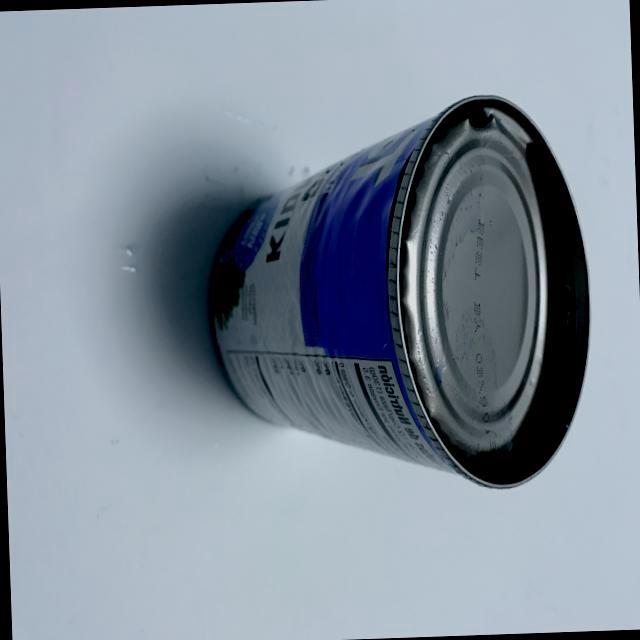metal: (184, 74, 606, 507)
